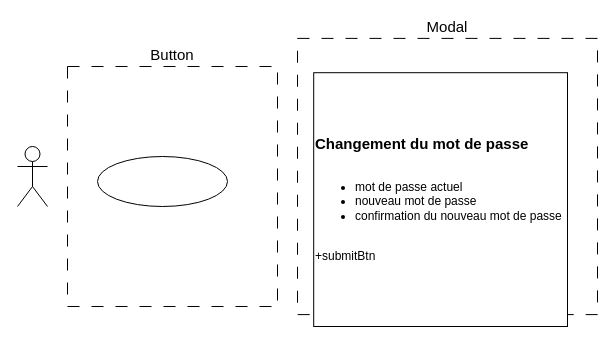
Image size: 615x344. Some labels were removed from this diagram. Each missing label, with the centre of its shape:
"modifier le mot de pass" goes at point (162, 181).
"User" goes at point (32, 176).
